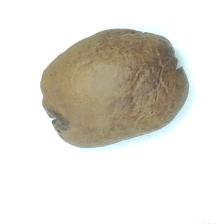NG: (129, 33, 189, 119)
